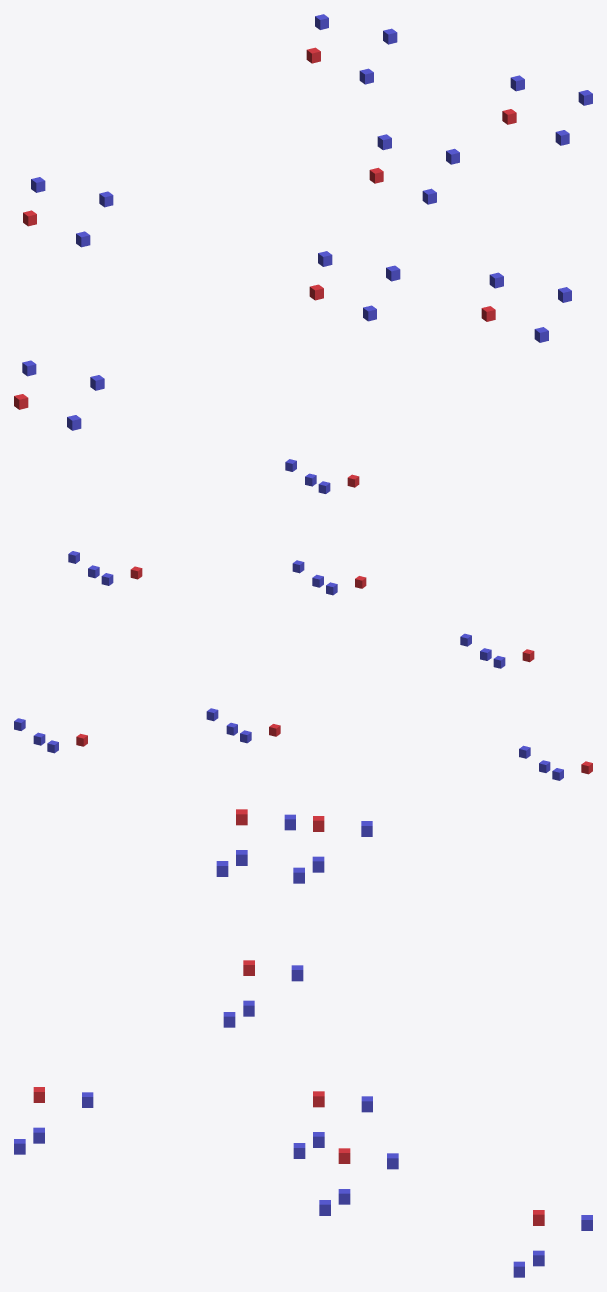
The model's file is demo8.fbx.
The picture shows the model from 3 angles, top to bottom: view 1: azimuth 30°, elevation 25°; view 2: azimuth 150°, elevation 25°; view 3: azimuth 270°, elevation 25°; orthographic projection. The views are drawn at different scales.
Bounding box in the file's own units: 5478 × 2840 × 4114.
